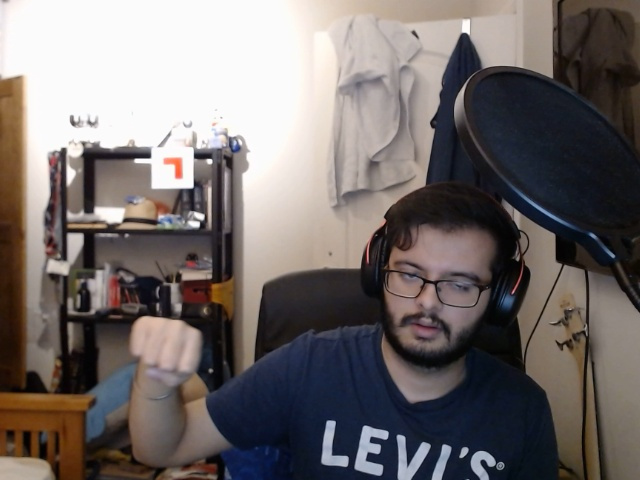Yes: (118, 315, 230, 389)
